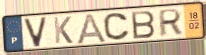A: (75, 12, 108, 46)
B: (130, 9, 157, 41)
C: (102, 12, 132, 42)
K: (52, 16, 74, 45)
R: (158, 8, 184, 38)
V: (23, 15, 49, 48)
